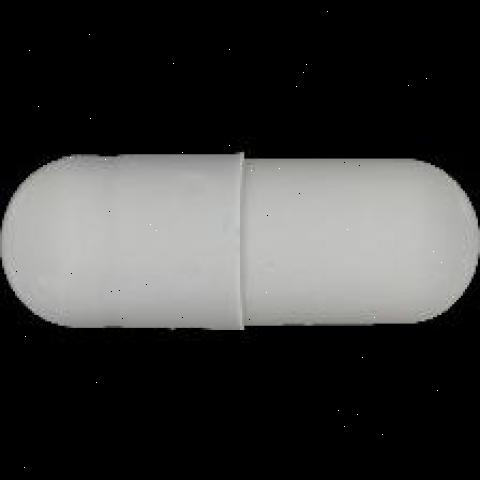Pill: (0, 96, 480, 364)
